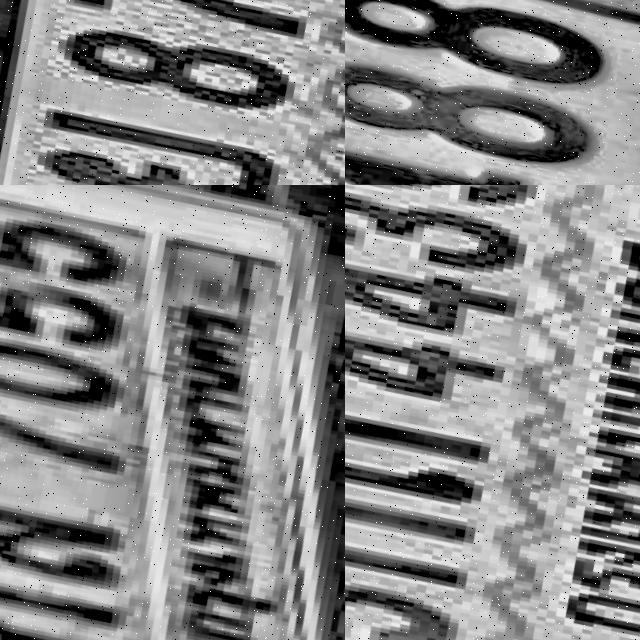license-plate: (0, 185, 345, 640), (345, 185, 640, 640), (0, 0, 345, 185), (345, 0, 640, 185)
